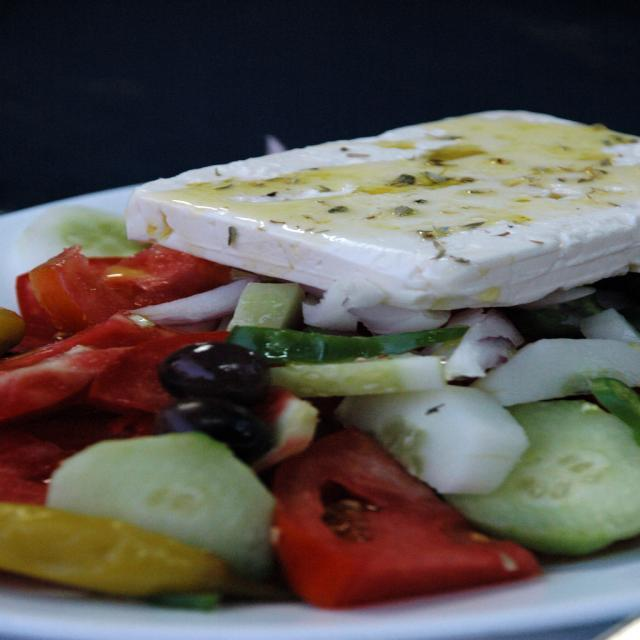Cheese: (119, 106, 639, 312)
